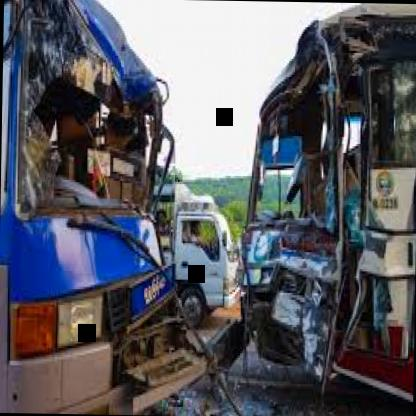accident: (3, 0, 416, 412)
